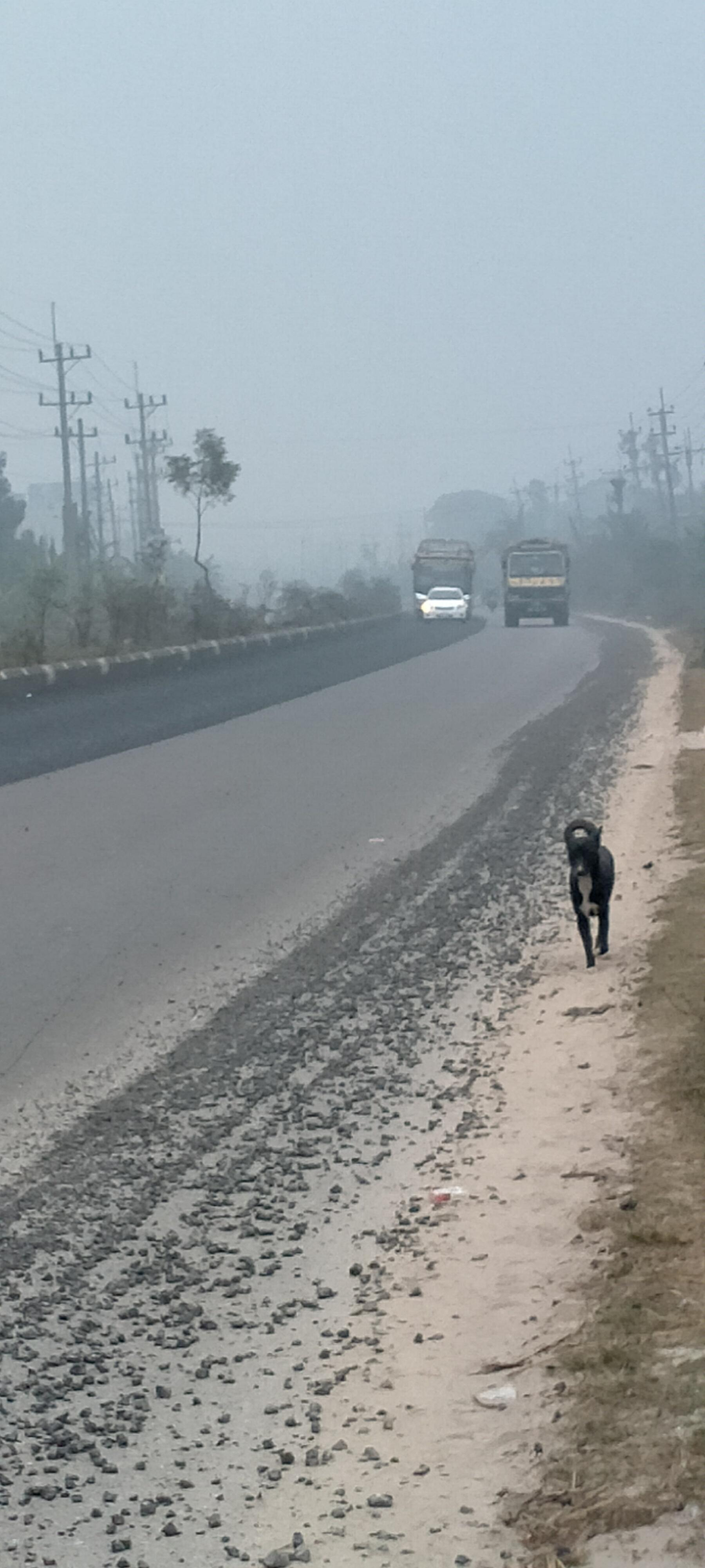Bus: (398, 524, 493, 630)
Car: (411, 578, 483, 624)
Truck: (496, 531, 595, 643)
